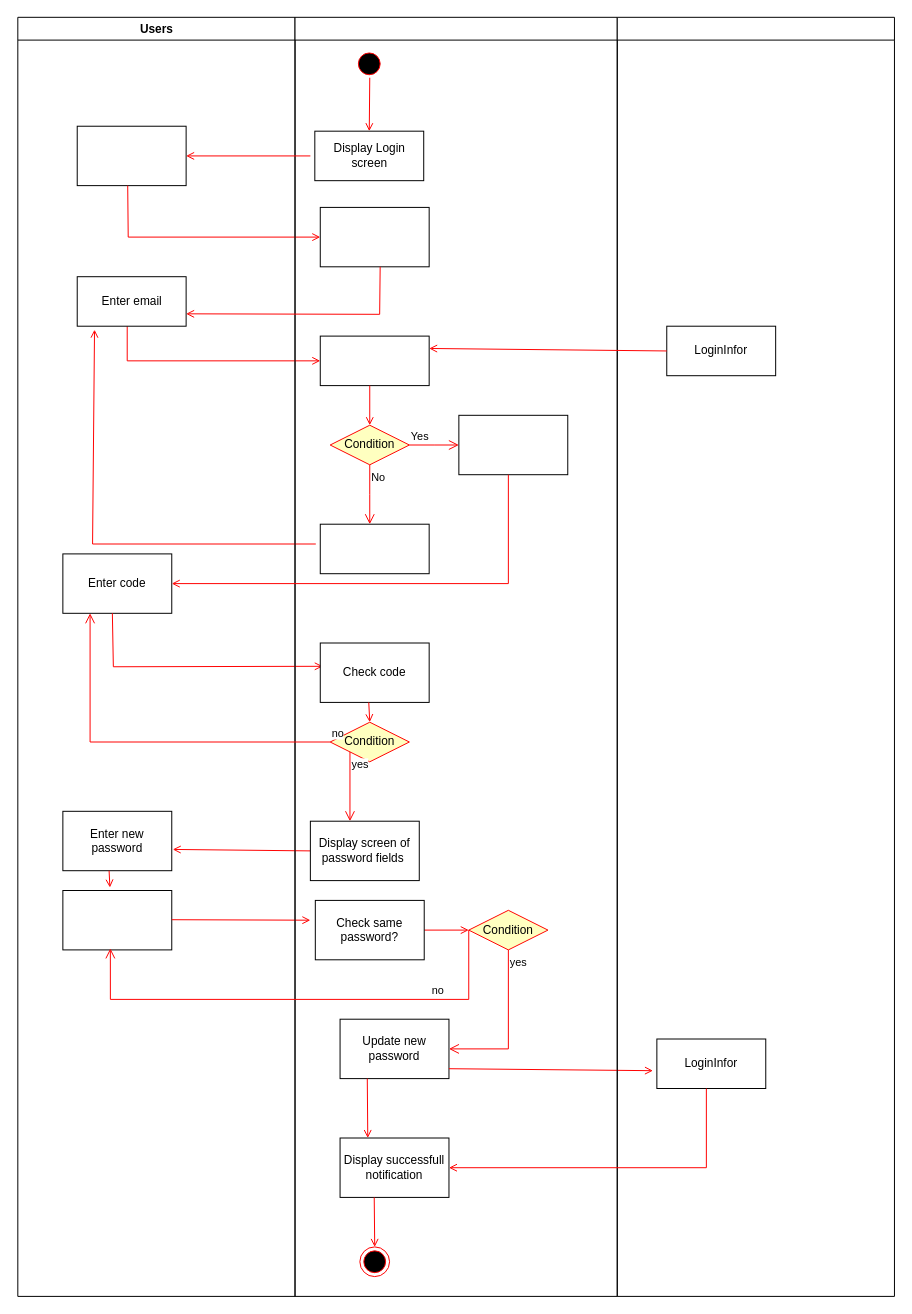
The diagram is 912 pixels wide and 1314 high, and some of its shapes have lost their labels. The box of each missing label's shape, as (x1, y1, x2, y2) in pixels:
Check right email?: (319, 335, 429, 386)
Click "forget password": (76, 125, 186, 186)
Database: (616, 16, 894, 1296)
Display email field: (319, 206, 429, 267)
Display error notification: (319, 523, 429, 574)
Enter password again: (62, 890, 172, 950)
Send code via email: (458, 414, 568, 475)
System: (294, 16, 617, 1296)
